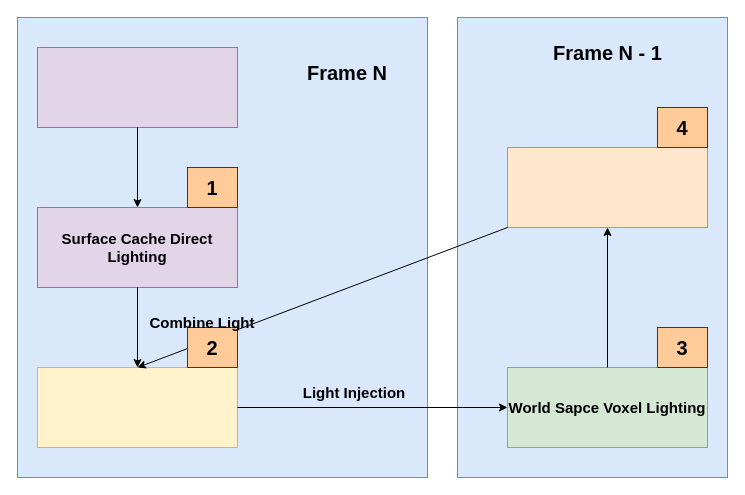
Image size: 745x495. Some labels were removed from this diagram. The shapes that lost their labels are listed below. From the top down, each one's box as (x1, y1, x2, y2) in pixels, then its label:
(36, 46, 238, 128): Surface Cache Material Attributes(Albedo/Normal)
(506, 146, 708, 228): Surface Cache Indirect Lighting
(36, 366, 238, 448): Surface Cache Final Lighting
